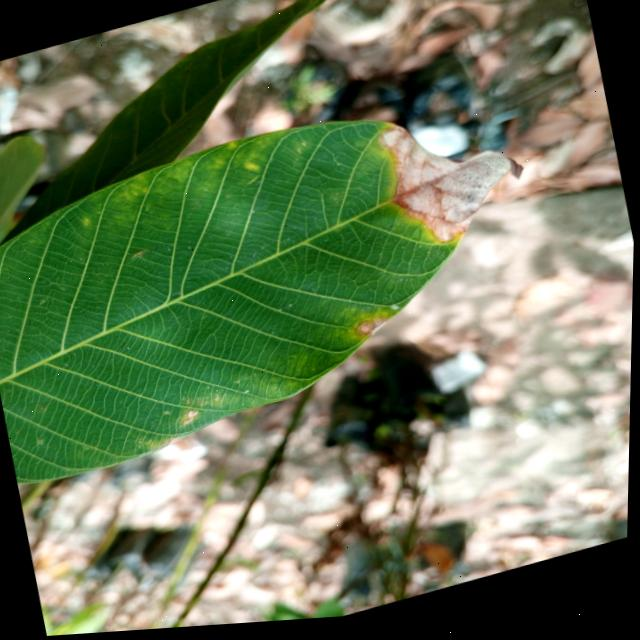Leaf-Blight: (376, 100, 538, 261), (358, 319, 391, 344)
